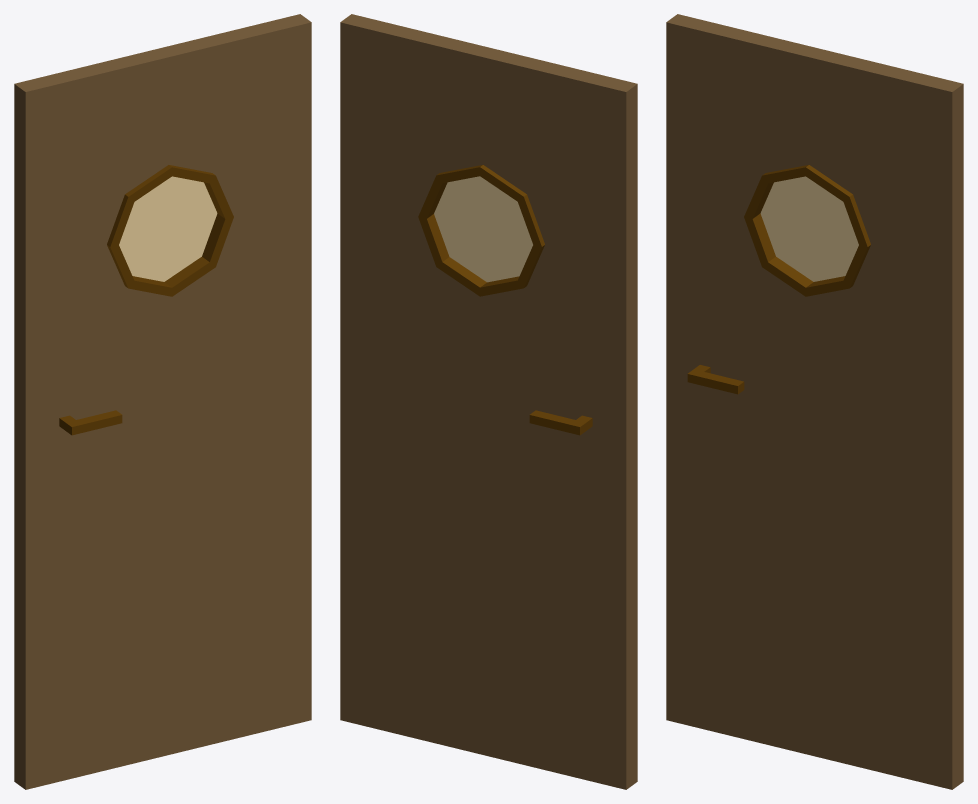
File: R_Door.fbx
3 renders of one model, left to right at view 1: azimuth 30°, elevation 25°; view 2: azimuth 150°, elevation 25°; view 3: azimuth 330°, elevation 25°, orthographic.
Visible parts, largest first — view 1: R_Door; view 2: R_Door; view 3: R_Door.
Part boxes in pixels (bbox=[...]): R_Door: bbox=[14, 14, 311, 789]; R_Door: bbox=[340, 14, 637, 789]; R_Door: bbox=[666, 14, 963, 789].
Size of the model in its own units: 718 by 1674 by 158.
